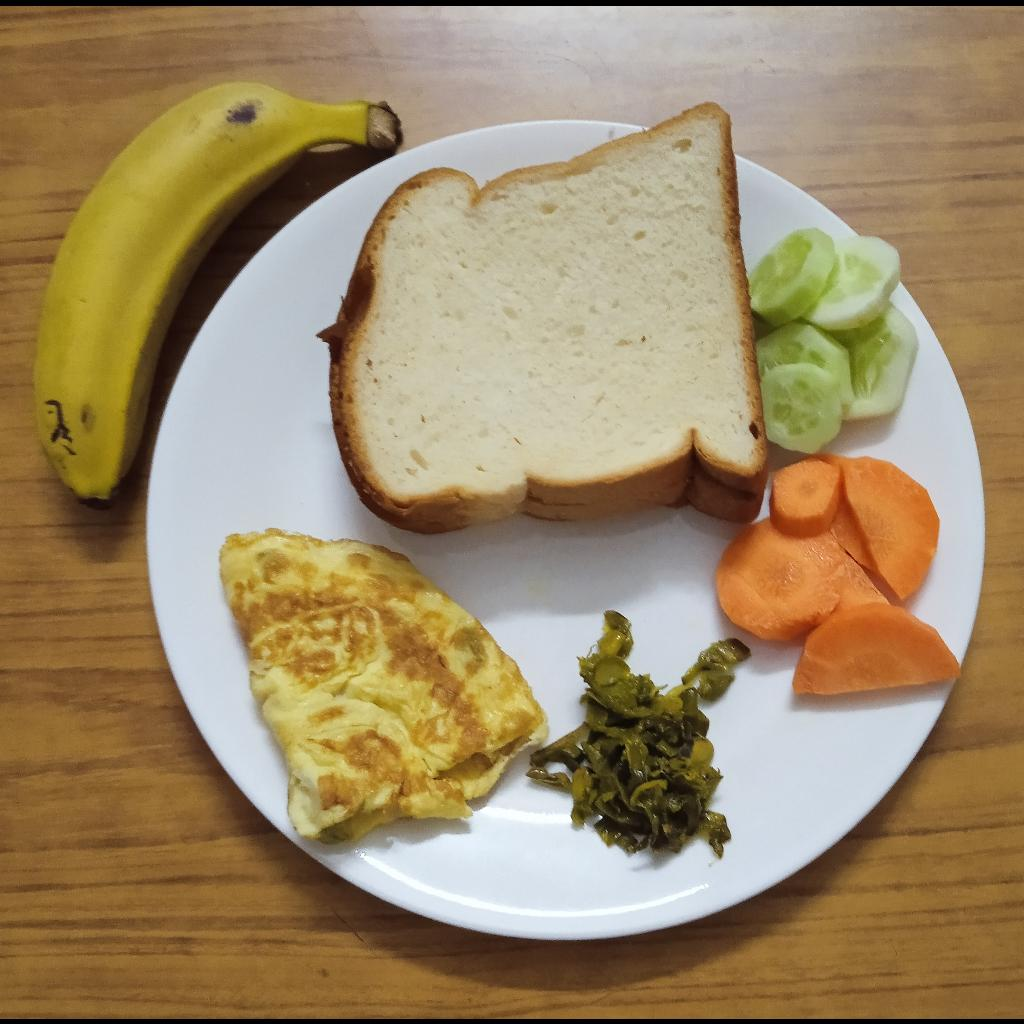banana: (32, 83, 399, 510)
bread: (316, 101, 771, 534)
carrot: (713, 452, 961, 698)
cucumber: (746, 225, 921, 451)
egg-poached: (221, 531, 548, 844)
shak: (527, 614, 751, 853)
